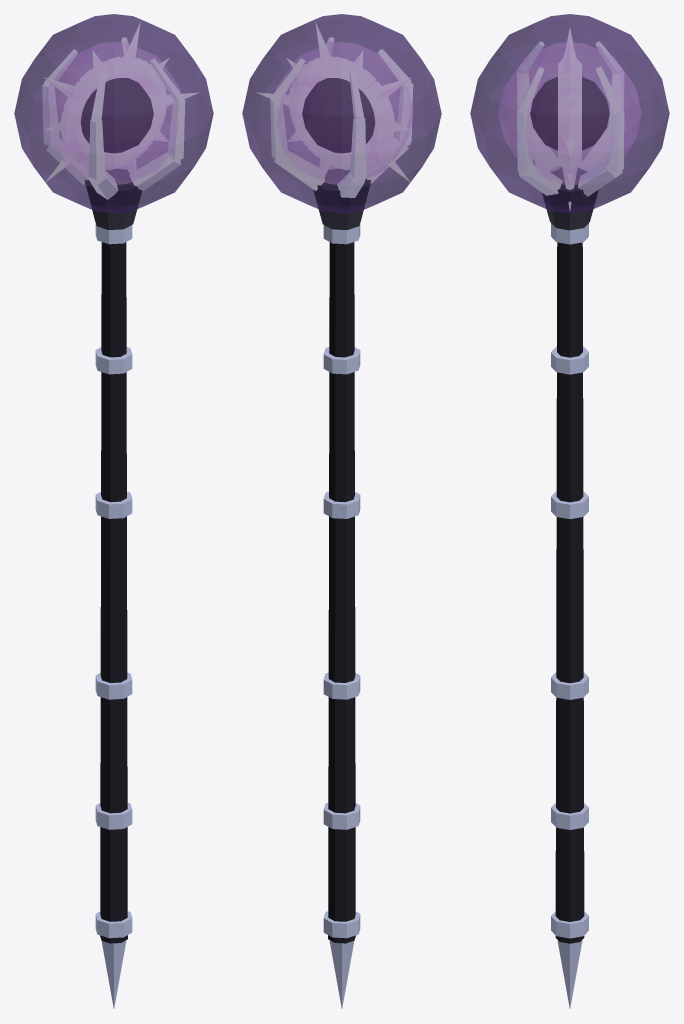
The model's file is uninvited_scepter.glb.
3 renders of one model, left to right at view 1: azimuth 30°, elevation 25°; view 2: azimuth 150°, elevation 25°; view 3: azimuth 270°, elevation 25°, orthographic.
Visible parts, largest first — view 1: uninvited_scepter; view 2: uninvited_scepter; view 3: uninvited_scepter.
Boxes of the visible parts, <box> form: uninvited_scepter: <box>14,14,213,1008</box>; uninvited_scepter: <box>242,14,441,1008</box>; uninvited_scepter: <box>470,14,669,1008</box>.
Bounding box in the file's own units: 0.5 × 2.73 × 0.5.
